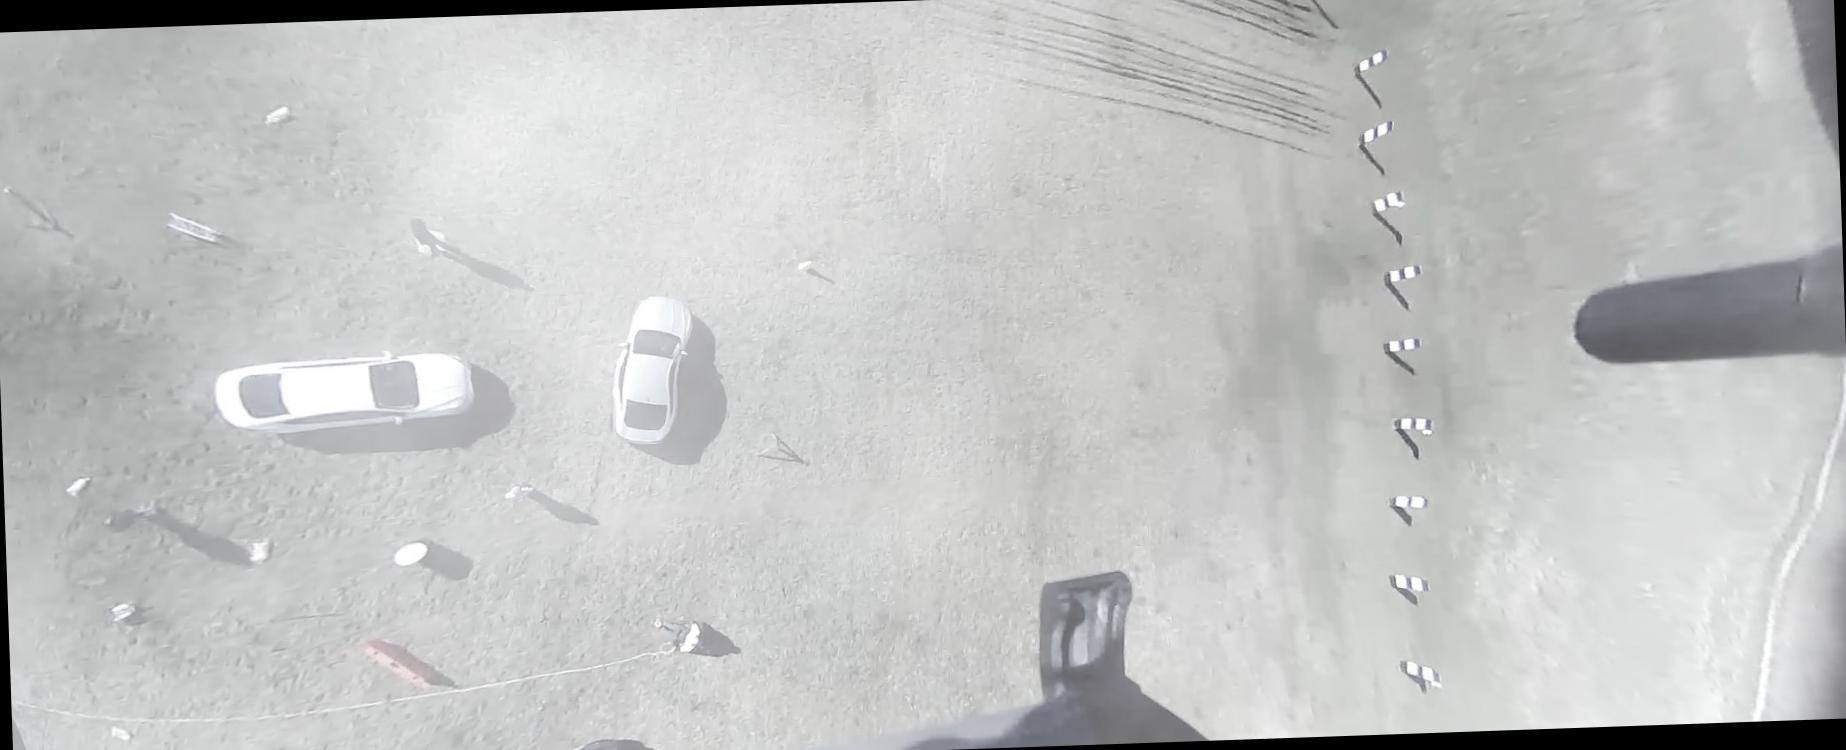vehicle: (207, 347, 478, 438), (604, 293, 698, 447), (550, 737, 637, 749)
